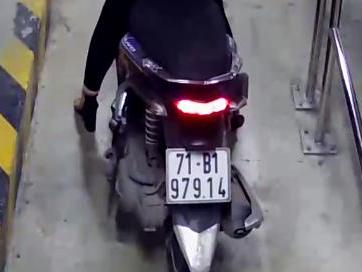num_plate: (164, 148, 232, 203)
